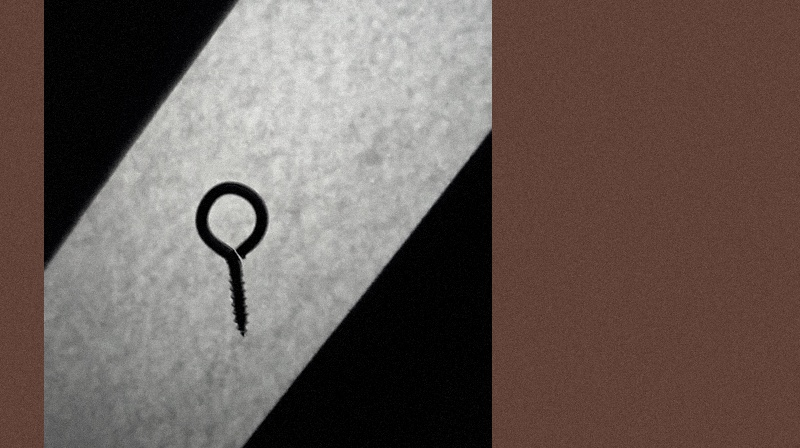O001: (193, 179, 271, 342)
